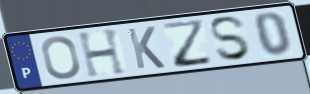0: (252, 10, 295, 59)
H: (75, 26, 129, 79)
K: (125, 25, 168, 71)
O: (39, 34, 83, 81)
S: (207, 14, 254, 63)
Z: (160, 17, 216, 70)
